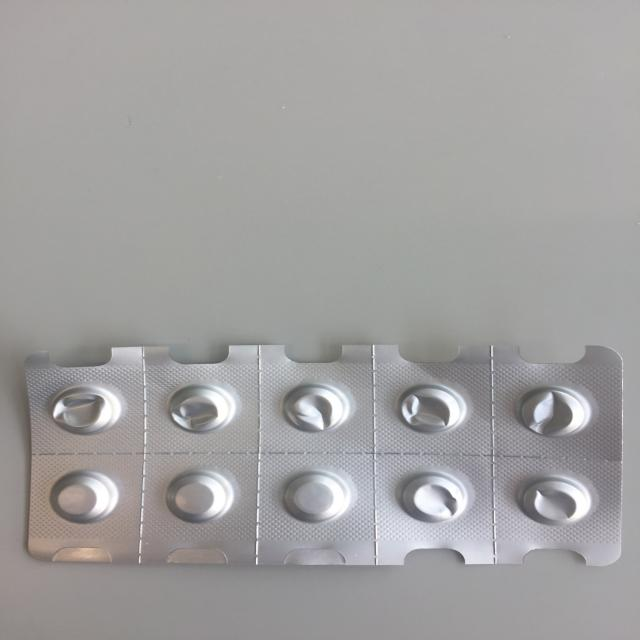Empty: (392, 467, 475, 530), (387, 378, 471, 438), (512, 470, 594, 530), (46, 380, 125, 438), (160, 381, 239, 438), (273, 378, 349, 437), (515, 384, 591, 442)
Pill: (272, 466, 357, 528), (158, 466, 239, 526), (44, 466, 120, 526)
